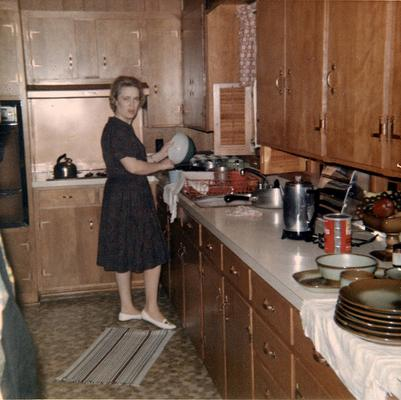person: (96, 76, 178, 332)
